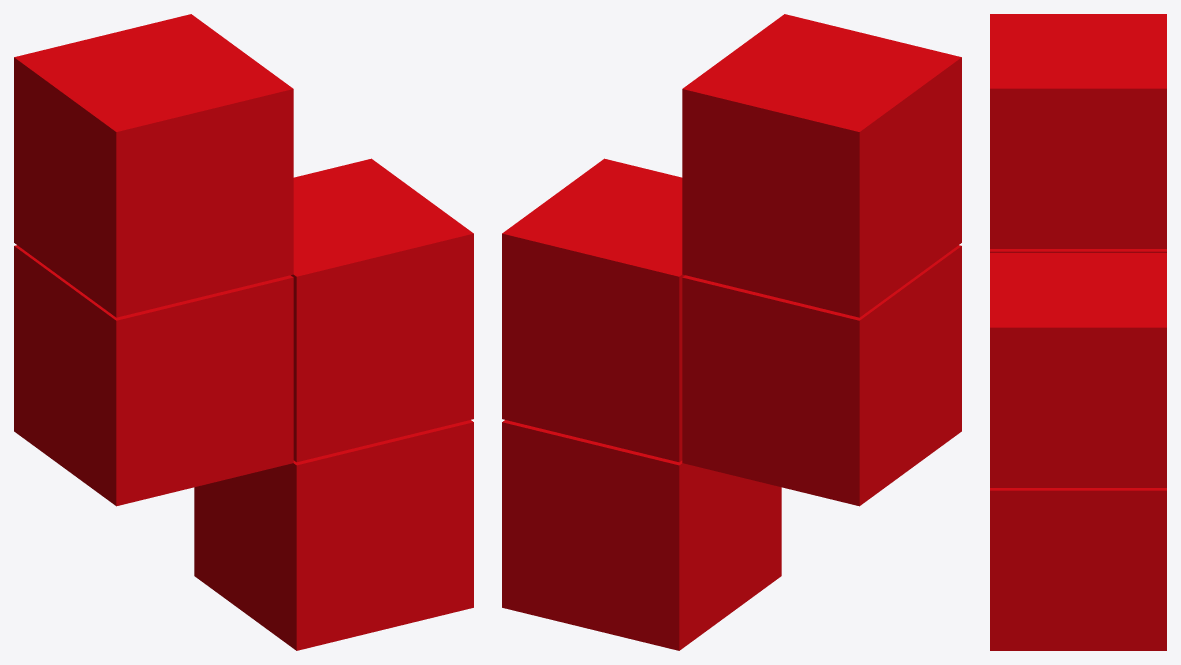
The model's file is red.glb.
The picture shows the model from 3 angles, left to right: view 1: azimuth 30°, elevation 25°; view 2: azimuth 150°, elevation 25°; view 3: azimuth 270°, elevation 25°; orthographic projection. The views are drawn at different scales.
Parts seen in each view (by area): view 1: Cube.001, Cube, Cube.002, Cube.003; view 2: Cube.001, Cube, Cube.002, Cube.003; view 3: Cube.001, Cube.003, Cube.002, Cube.
Part boxes in pixels (box(x1,y1,x2,y2)): Cube.001: box(14, 14, 293, 317); Cube: box(14, 245, 293, 506); Cube.002: box(194, 420, 473, 650); Cube.003: box(291, 158, 473, 462); Cube.001: box(682, 14, 961, 317); Cube: box(682, 245, 961, 506); Cube.002: box(502, 420, 781, 650); Cube.003: box(502, 158, 684, 462); Cube.001: box(990, 14, 1166, 248); Cube.003: box(990, 253, 1166, 487); Cube.002: box(990, 488, 1166, 650); Cube: box(990, 249, 1166, 252).
Size of the model in its own units: 0.0605 by 0.091 by 0.03.
